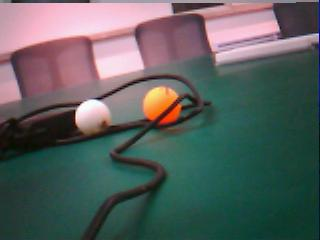oball: (142, 86, 182, 124)
